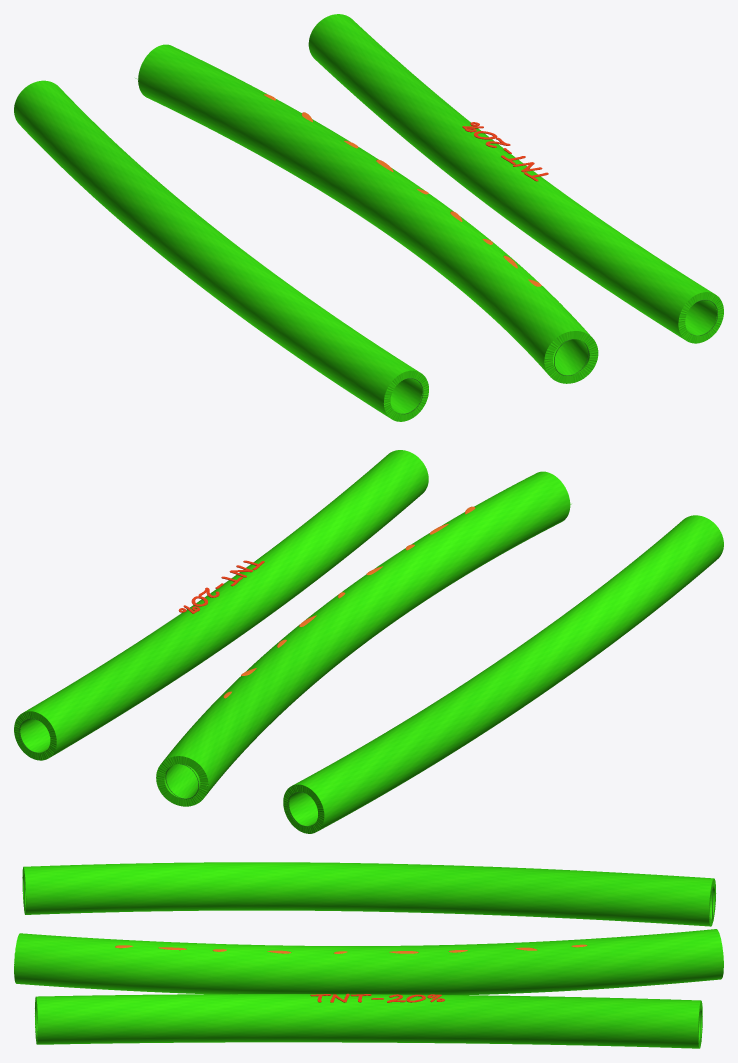
File: product-21-petrol-pipe.glb
3 renders of one model, top to bottom at view 1: azimuth 30°, elevation 25°; view 2: azimuth 150°, elevation 25°; view 3: azimuth 270°, elevation 25°, orthographic. The views are drawn at different scales.
Parts seen in each view (by area): view 1: tube-01-plain, red-handwritten-TNT-20-percent; view 2: tube-01-plain, red-handwritten-TNT-20-percent; view 3: tube-01-plain, red-handwritten-TNT-20-percent, orange-hand-mark-00.
Part boxes in pixels (x1,y1,x2,y2): tube-01-plain: (14,14,723,421); red-handwritten-TNT-20-percent: (462,122,548,181); tube-01-plain: (14,450,723,833); red-handwritten-TNT-20-percent: (178,560,264,613); tube-01-plain: (14,862,723,1048); red-handwritten-TNT-20-percent: (310,993,444,1002); orange-hand-mark-00: (115,944,587,953).
Bounding box in the file's own units: 0.1547 × 0.022 × 0.294.
Materials: 4 (1 with a texture image).
